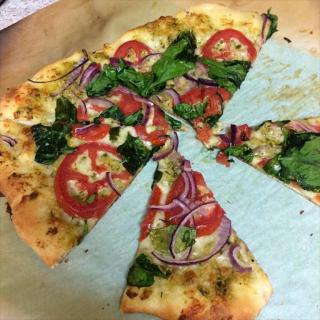Pizza: (0, 51, 175, 269), (119, 148, 274, 320), (100, 0, 278, 142), (191, 114, 319, 208)
